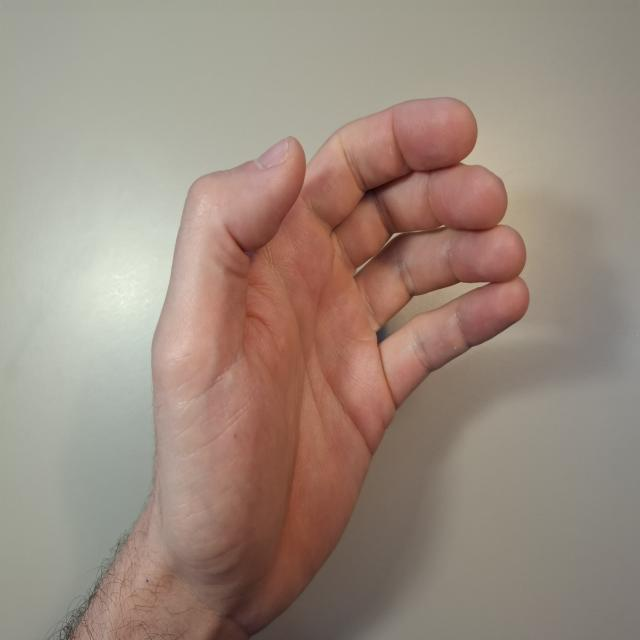glove_off: (149, 93, 532, 635)
